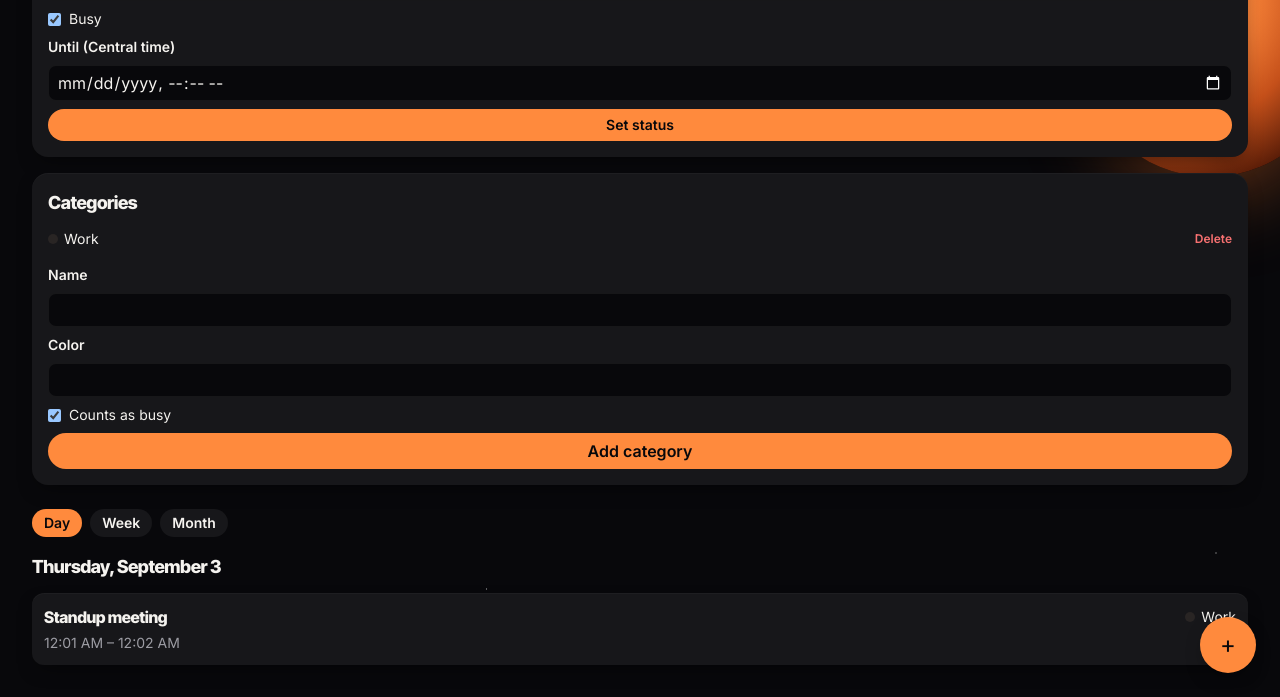
Test: AdminApp › opens EventForm pre-filled when a calendar event is clicked
(page scrolled)
Click the button "Standup meeting Work 12:01 AM – 12:02 AM" at (106,617), box x1=32 y1=593 x2=1248 y2=665
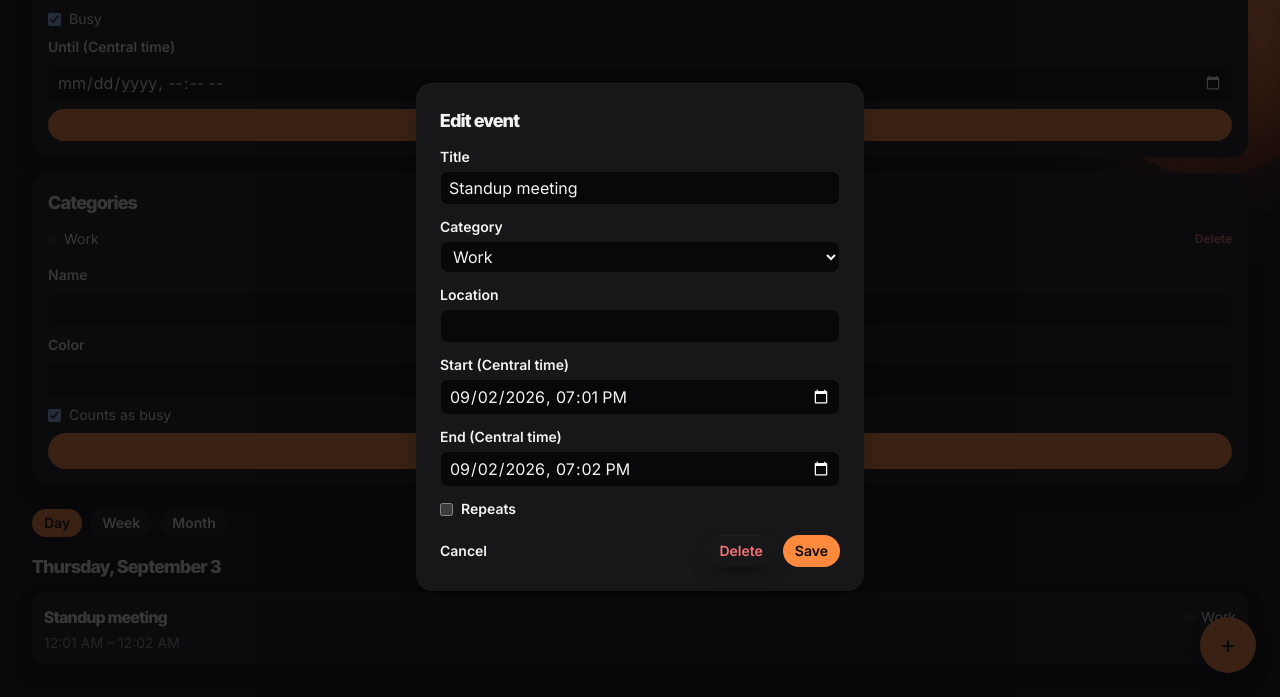
Result: the field labelled "Title" holds "Standup meeting" at x1=440 y1=171 x2=840 y2=205
Result: the button "Delete" is shown at x1=707 y1=535 x2=775 y2=567
